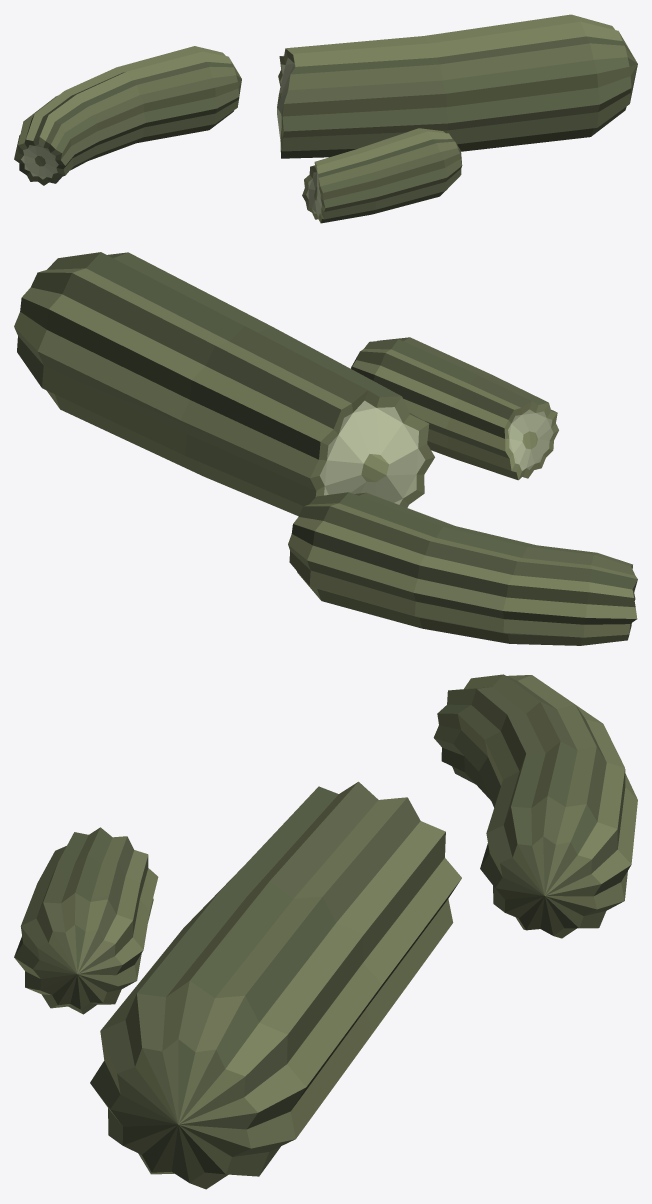
The model's file is SM_Env_Cactus_03.glb.
3 views of the same model, one above another, from view 1: azimuth 30°, elevation 25°; view 2: azimuth 150°, elevation 25°; view 3: azimuth 270°, elevation 25° (orthographic). The views are drawn at different scales.
Visible parts, largest first — view 1: SM_Env_Cactus_03; view 2: SM_Env_Cactus_03; view 3: SM_Env_Cactus_03.
Part boxes in pixels (bbox=[...]): SM_Env_Cactus_03: bbox=[14, 14, 637, 223]; SM_Env_Cactus_03: bbox=[14, 252, 637, 645]; SM_Env_Cactus_03: bbox=[14, 674, 637, 1189].
Bounding box in the file's own units: 2.18 × 0.45 × 1.22.
Materials: 1 (1 with a texture image).
